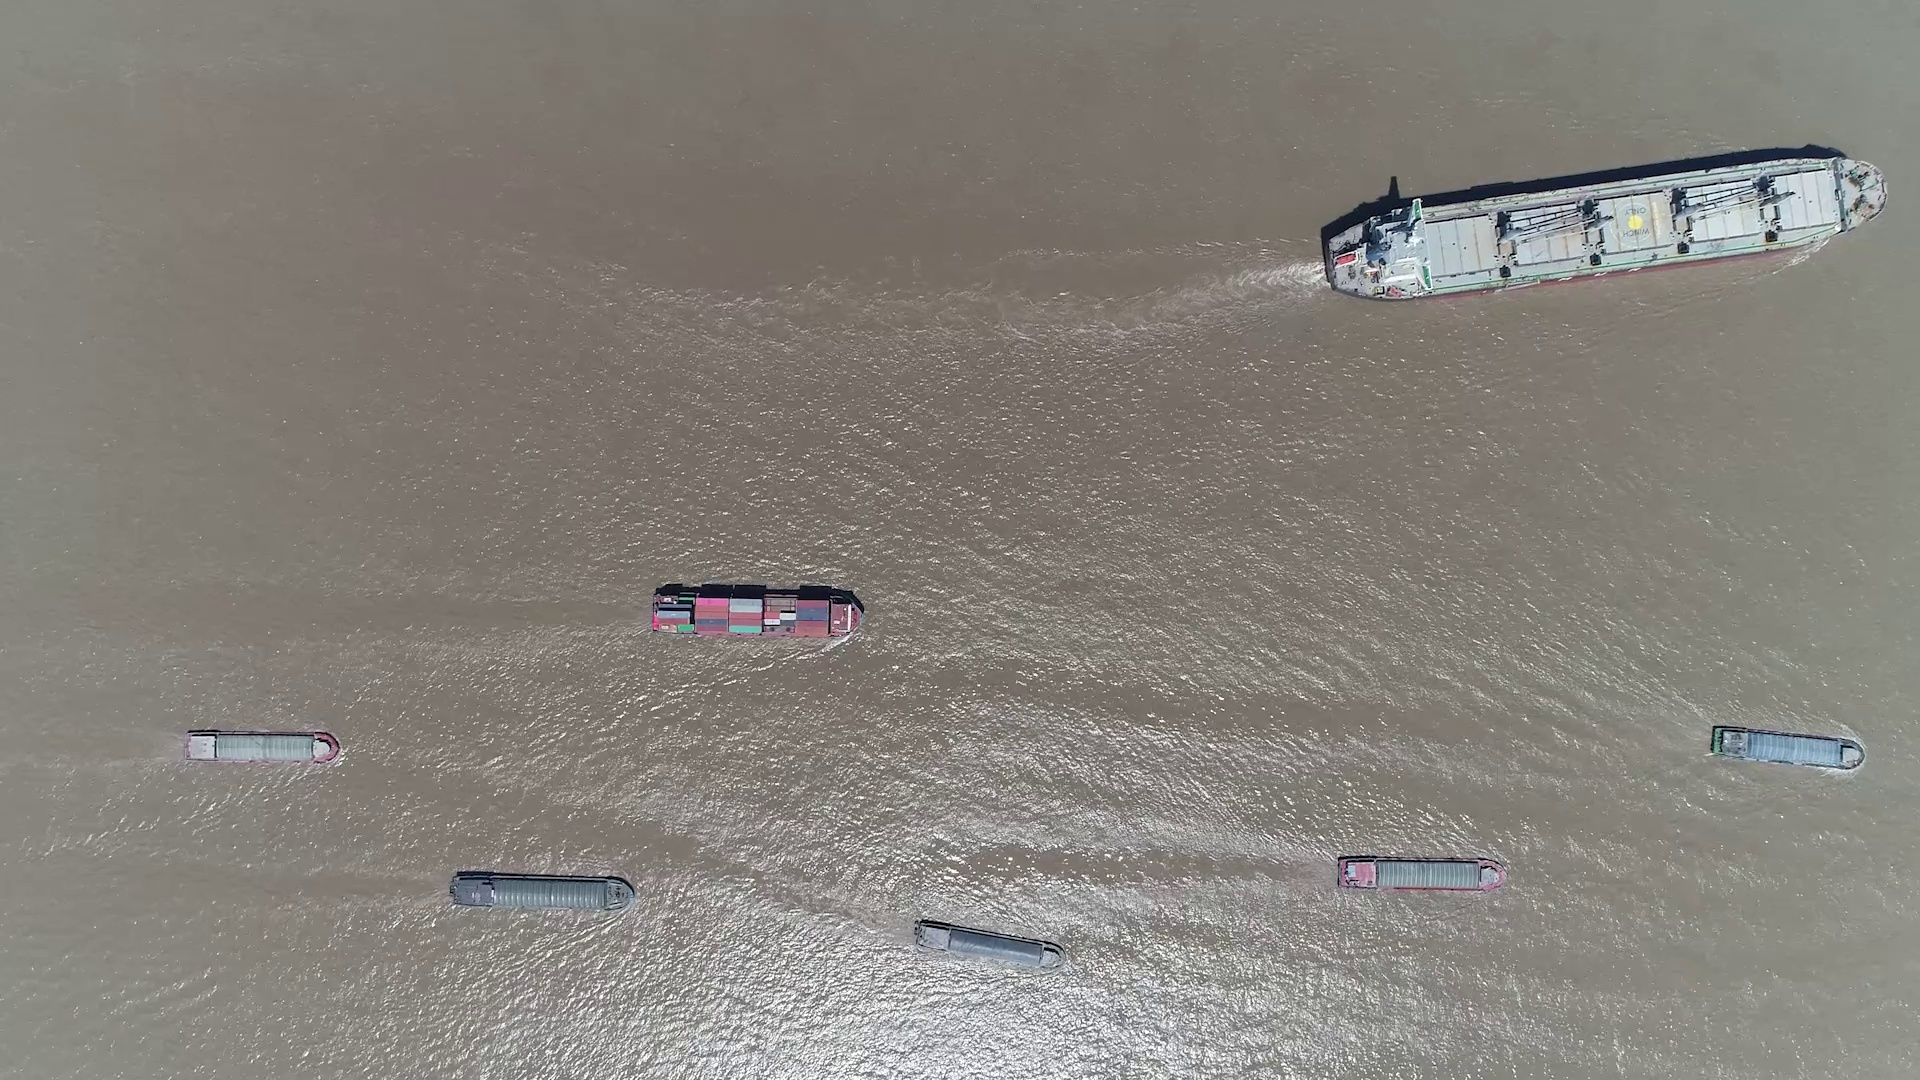ship: (1321, 157, 1887, 301), (649, 589, 862, 638), (913, 919, 1062, 968), (448, 872, 632, 911), (1708, 725, 1865, 771), (1338, 855, 1509, 891), (183, 731, 339, 765)
